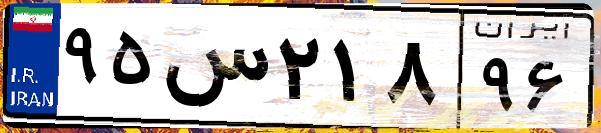1: (330, 28, 385, 110)
2: (270, 28, 330, 110)
5: (110, 28, 158, 98)
6: (525, 38, 570, 115)
8: (385, 28, 445, 110)
9: (57, 26, 110, 100), (475, 38, 525, 113)
س: (158, 20, 270, 120)
